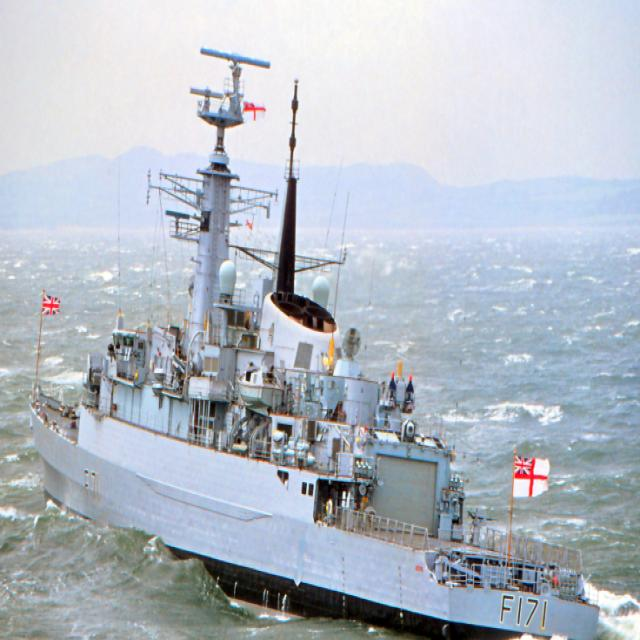Fragata: (25, 46, 606, 640)
